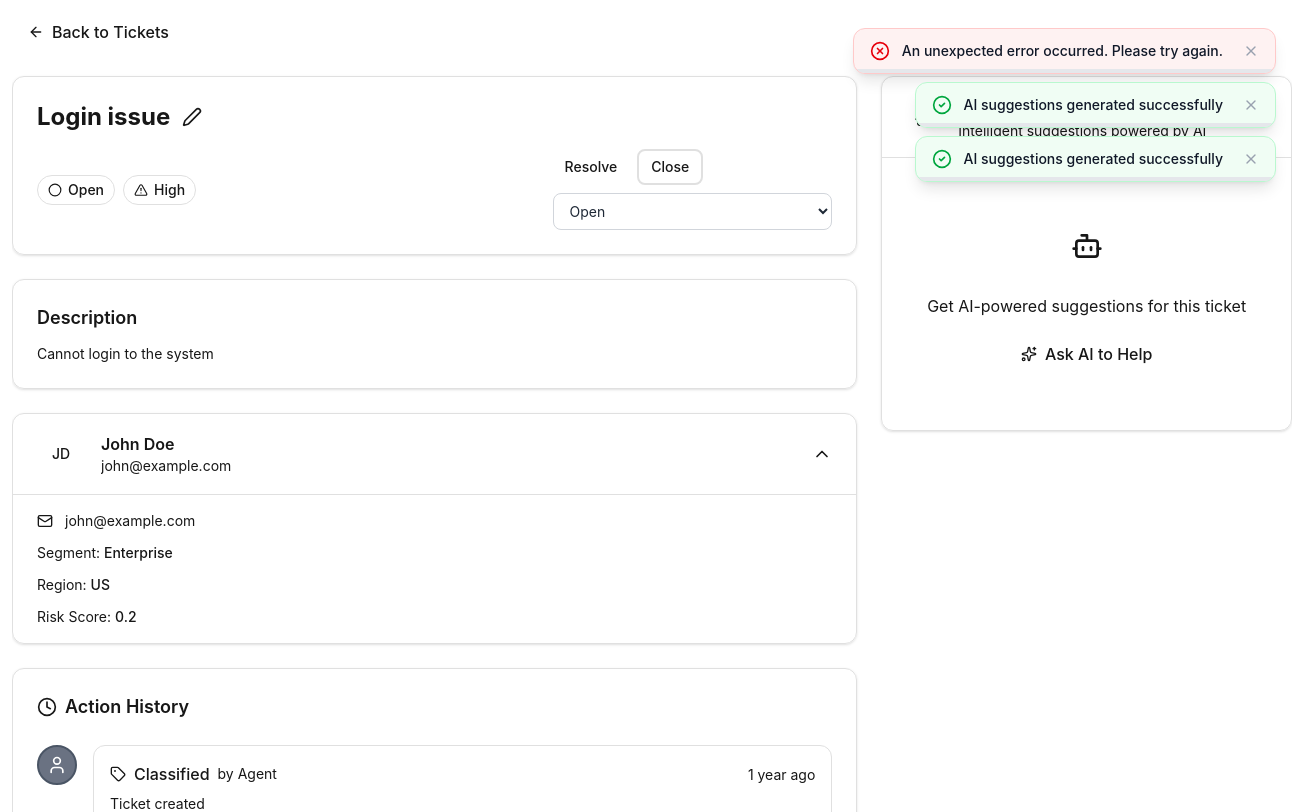
Scenario: Integration Tests: User Flows › Error Handling Flows › should handle AI service unavailable error
The image size is (1292, 812).
Check: the heading "Login issue" is shown, box [37, 101, 170, 133]
Click AI assistance button
Click the button "Ask AI to Help".
click(1087, 354)  # box [1005, 334, 1168, 374]
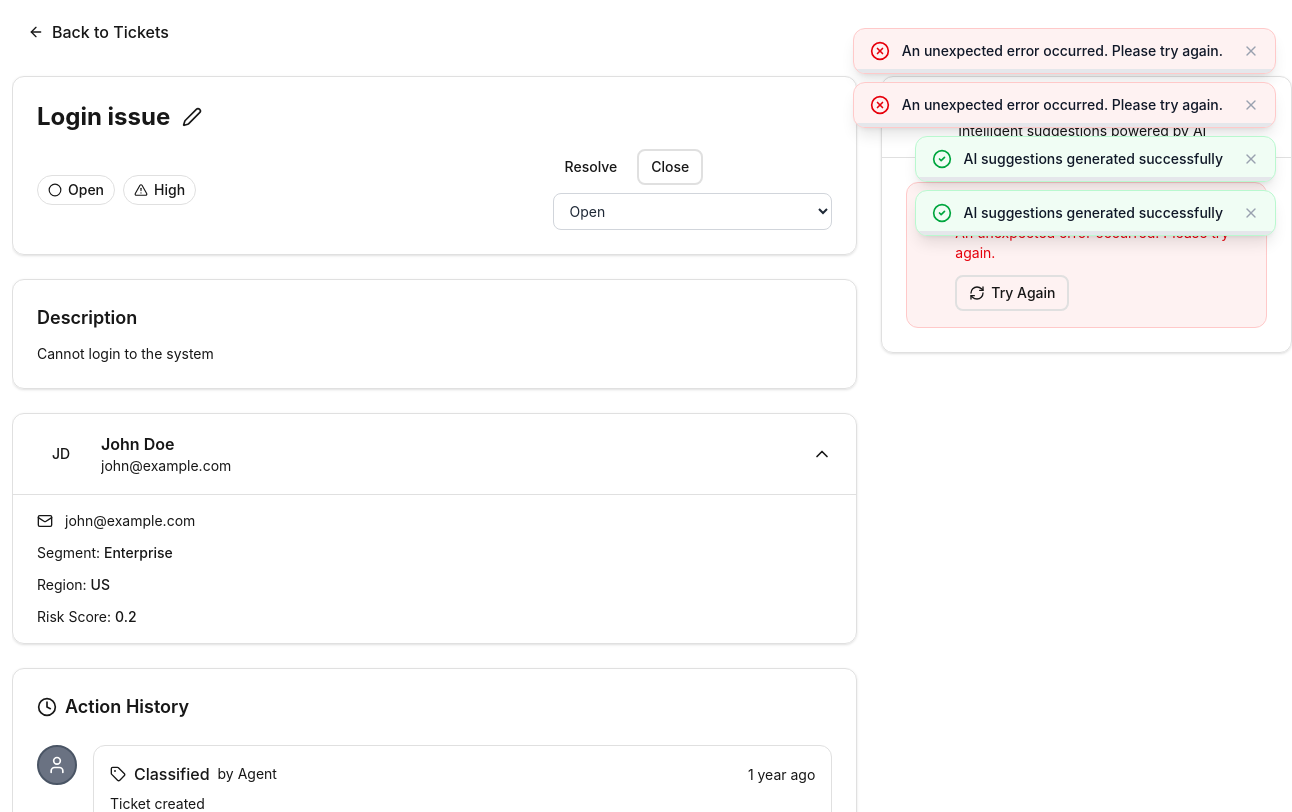
Check: the text "An unexpected error occurred. Please try again." below "Unable to generate suggestions" is shown, box [955, 224, 1229, 261]
